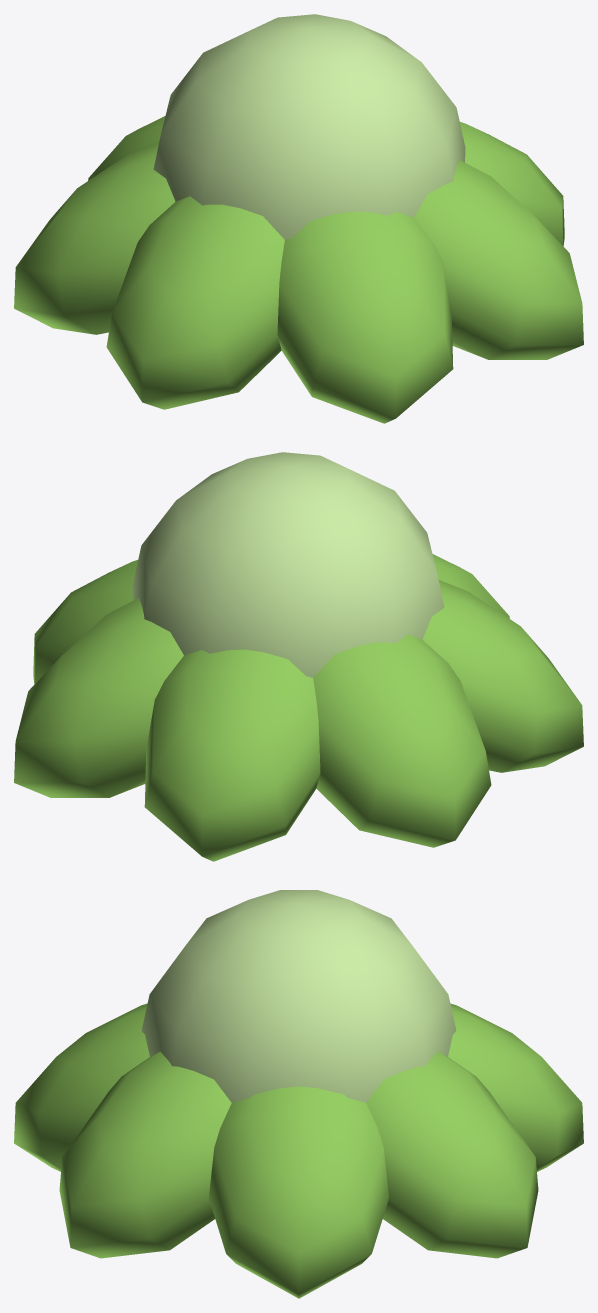
The model's file is cabbage.glb.
3 views of the same model, one above another, from view 1: azimuth 30°, elevation 25°; view 2: azimuth 150°, elevation 25°; view 3: azimuth 270°, elevation 25° (orthographic).
Parts seen in each view (by area): view 1: cabbage; view 2: cabbage; view 3: cabbage.
Part boxes in pixels (<box>): cabbage: <box>14,14,583,423</box>; cabbage: <box>14,452,583,861</box>; cabbage: <box>14,890,583,1298</box>.
Size of the model in its own units: 0.5497 by 0.32 by 0.5639.
